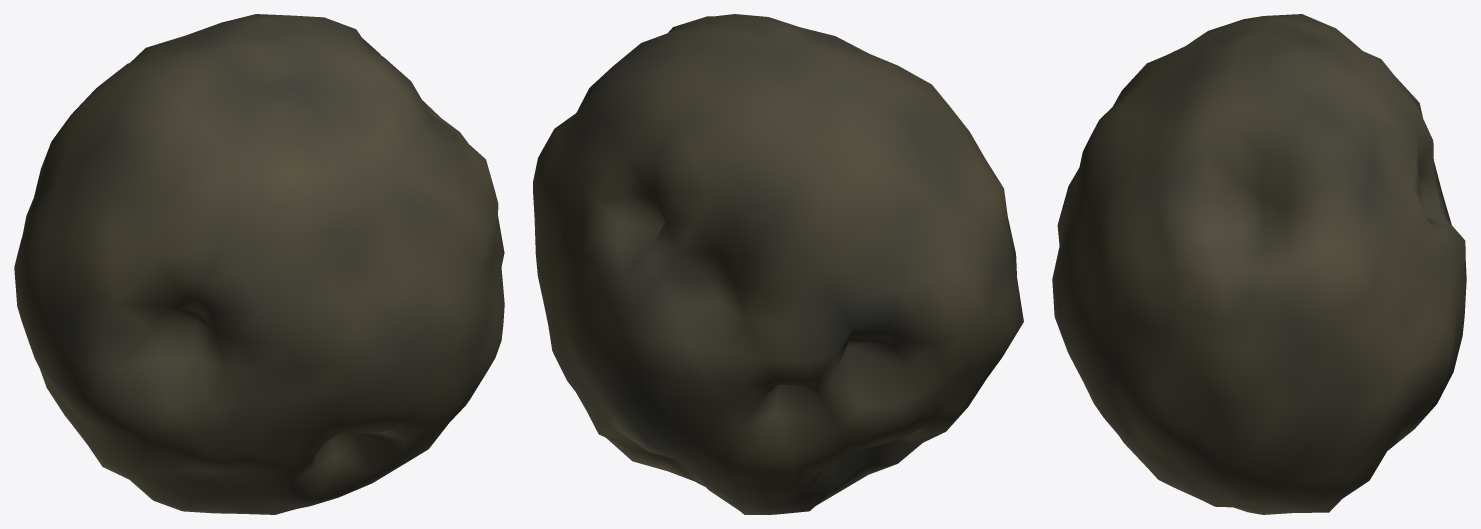
Rendered from asteroid_00.glb.
3 views of the same model, side by side, from view 1: azimuth 30°, elevation 25°; view 2: azimuth 150°, elevation 25°; view 3: azimuth 270°, elevation 25° (orthographic). The views are drawn at different scales.
Visible parts, largest first — view 1: Asteroid_00; view 2: Asteroid_00; view 3: Asteroid_00.
Part boxes in pixels (x1=…): Asteroid_00: x1=14, y1=14, x2=504, y2=514; Asteroid_00: x1=533, y1=14, x2=1023, y2=514; Asteroid_00: x1=1052, y1=14, x2=1466, y2=514.
Size of the model in its own units: 2.21 by 2.23 by 1.85.
